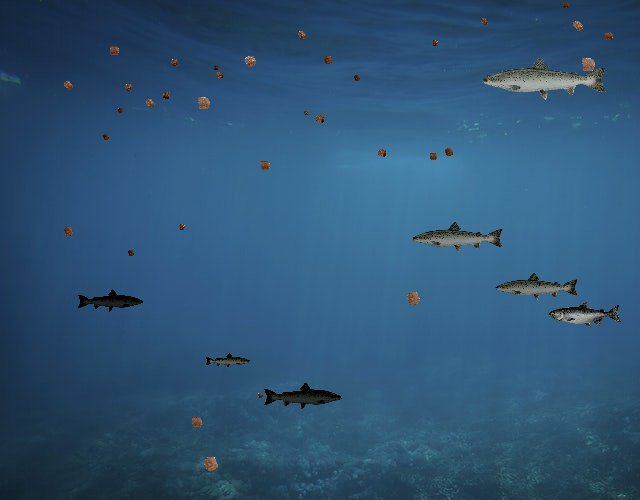Fish: (480, 55, 609, 101), (411, 220, 505, 254), (494, 271, 580, 302), (262, 381, 343, 410), (549, 302, 622, 328), (77, 288, 145, 313), (205, 352, 252, 369)
Pellet: (196, 448, 226, 479), (238, 49, 263, 74), (185, 411, 208, 434), (372, 143, 391, 162), (174, 220, 189, 235), (124, 246, 138, 260), (428, 36, 442, 50), (254, 389, 266, 401)
